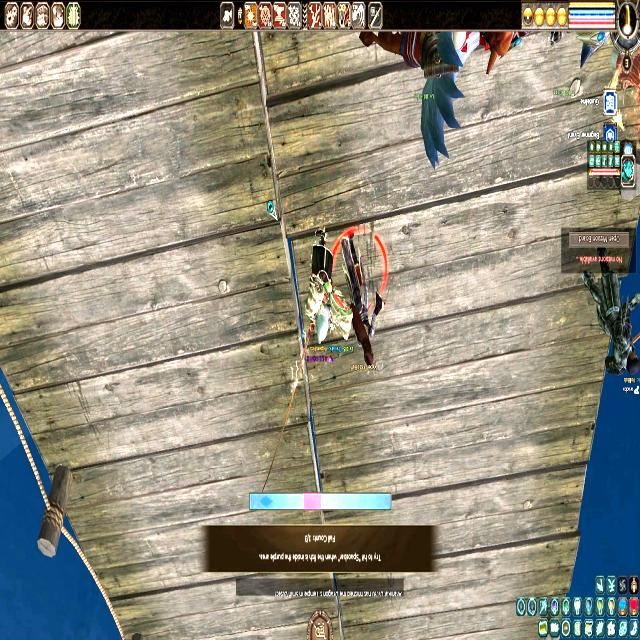fishes: (261, 496, 272, 508)
